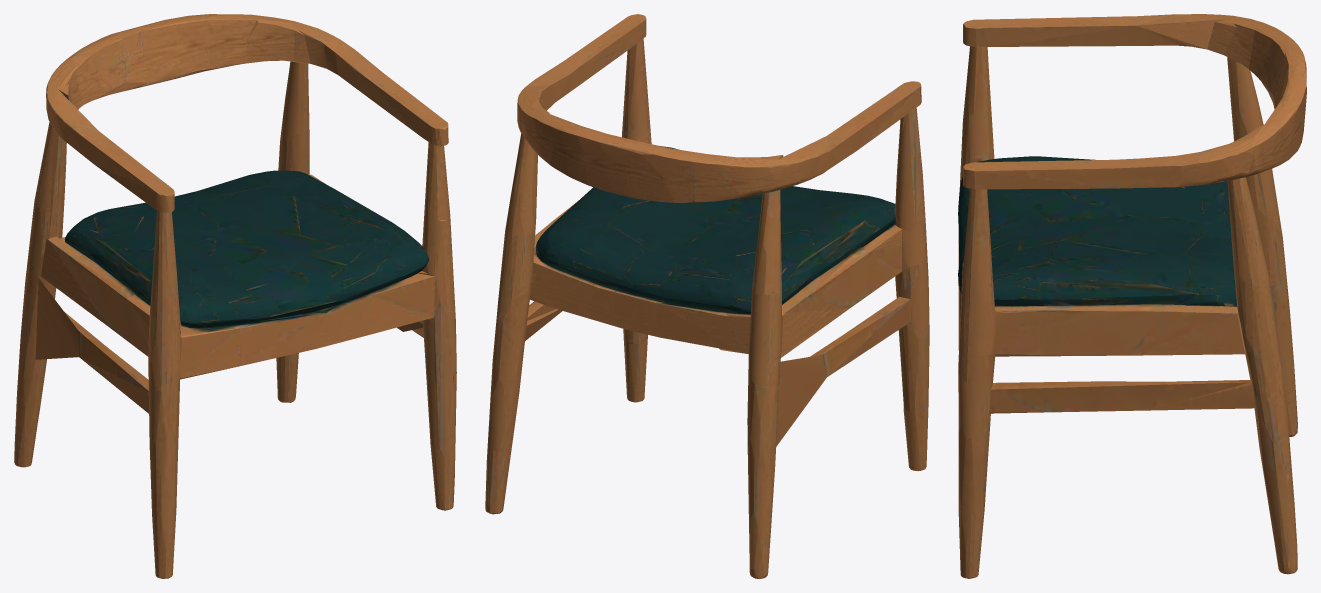
File: kursi-kayu.glb
The picture shows the model from 3 angles, left to right: view 1: azimuth 30°, elevation 25°; view 2: azimuth 150°, elevation 25°; view 3: azimuth 270°, elevation 25°; orthographic projection. The views are drawn at different scales.
Size of the model in its own units: 1.49 by 1.9 by 1.4.
Materials: 1 (1 with a texture image).
